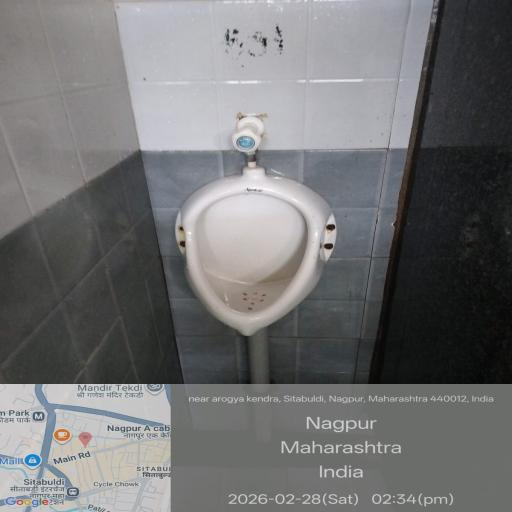clean_floor: (16, 12, 432, 150), (25, 368, 512, 483)
clean_urinal: (159, 155, 345, 356)
